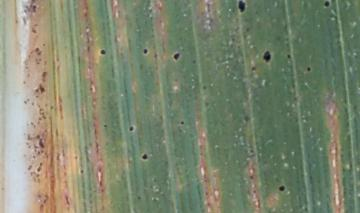tarspot: (262, 50, 273, 63), (237, 1, 247, 14), (126, 125, 136, 134), (277, 183, 286, 192), (140, 152, 149, 161), (141, 48, 150, 56), (172, 52, 180, 61), (247, 173, 256, 181), (98, 48, 106, 56), (203, 99, 210, 108), (102, 122, 110, 129), (78, 168, 85, 176), (243, 116, 250, 124), (305, 65, 312, 72), (179, 119, 186, 126), (323, 1, 329, 9), (285, 53, 293, 59), (249, 65, 256, 71), (202, 84, 207, 91), (191, 58, 195, 64)
